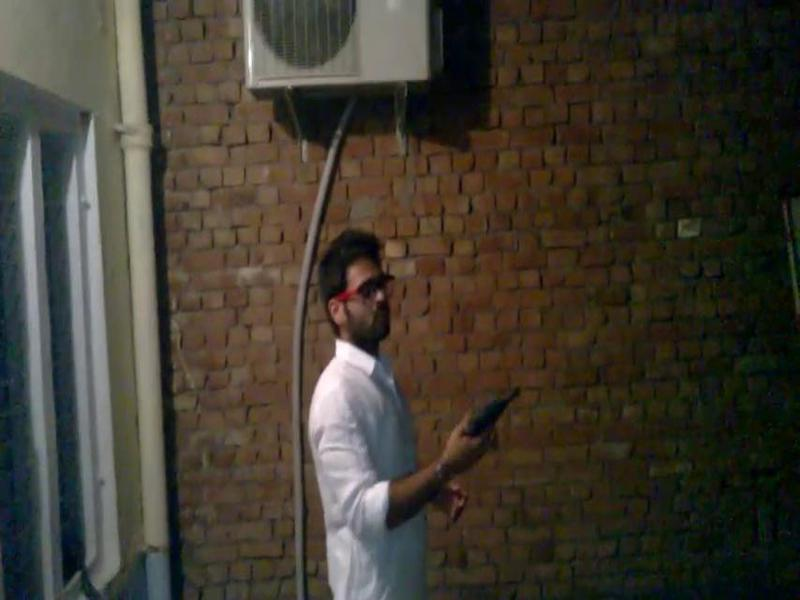Revolver: (430, 373, 545, 466)
